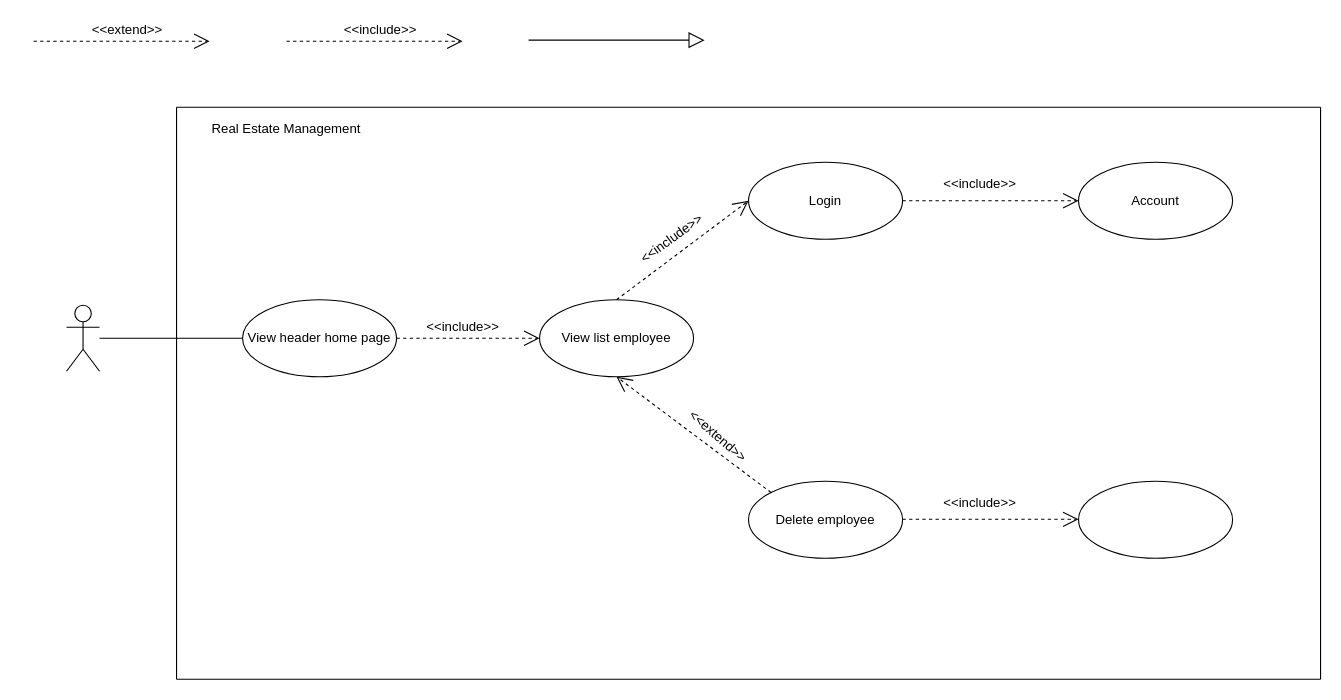
The diagram is 1341 pixels wide and 700 high, and some of its shapes have lost their labels. Here are the shapes that lost their labels. From the top down, the box of each, then its label:
(65, 304, 100, 371): Admin
(1077, 480, 1233, 558): Confirm delete
